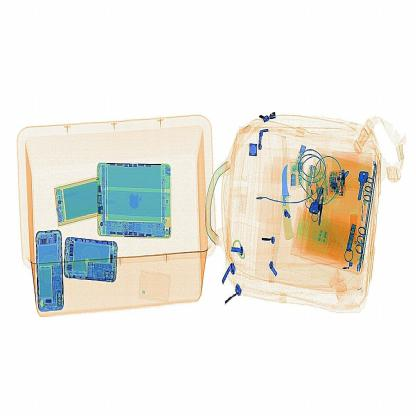wrench: (276, 158, 298, 252)
